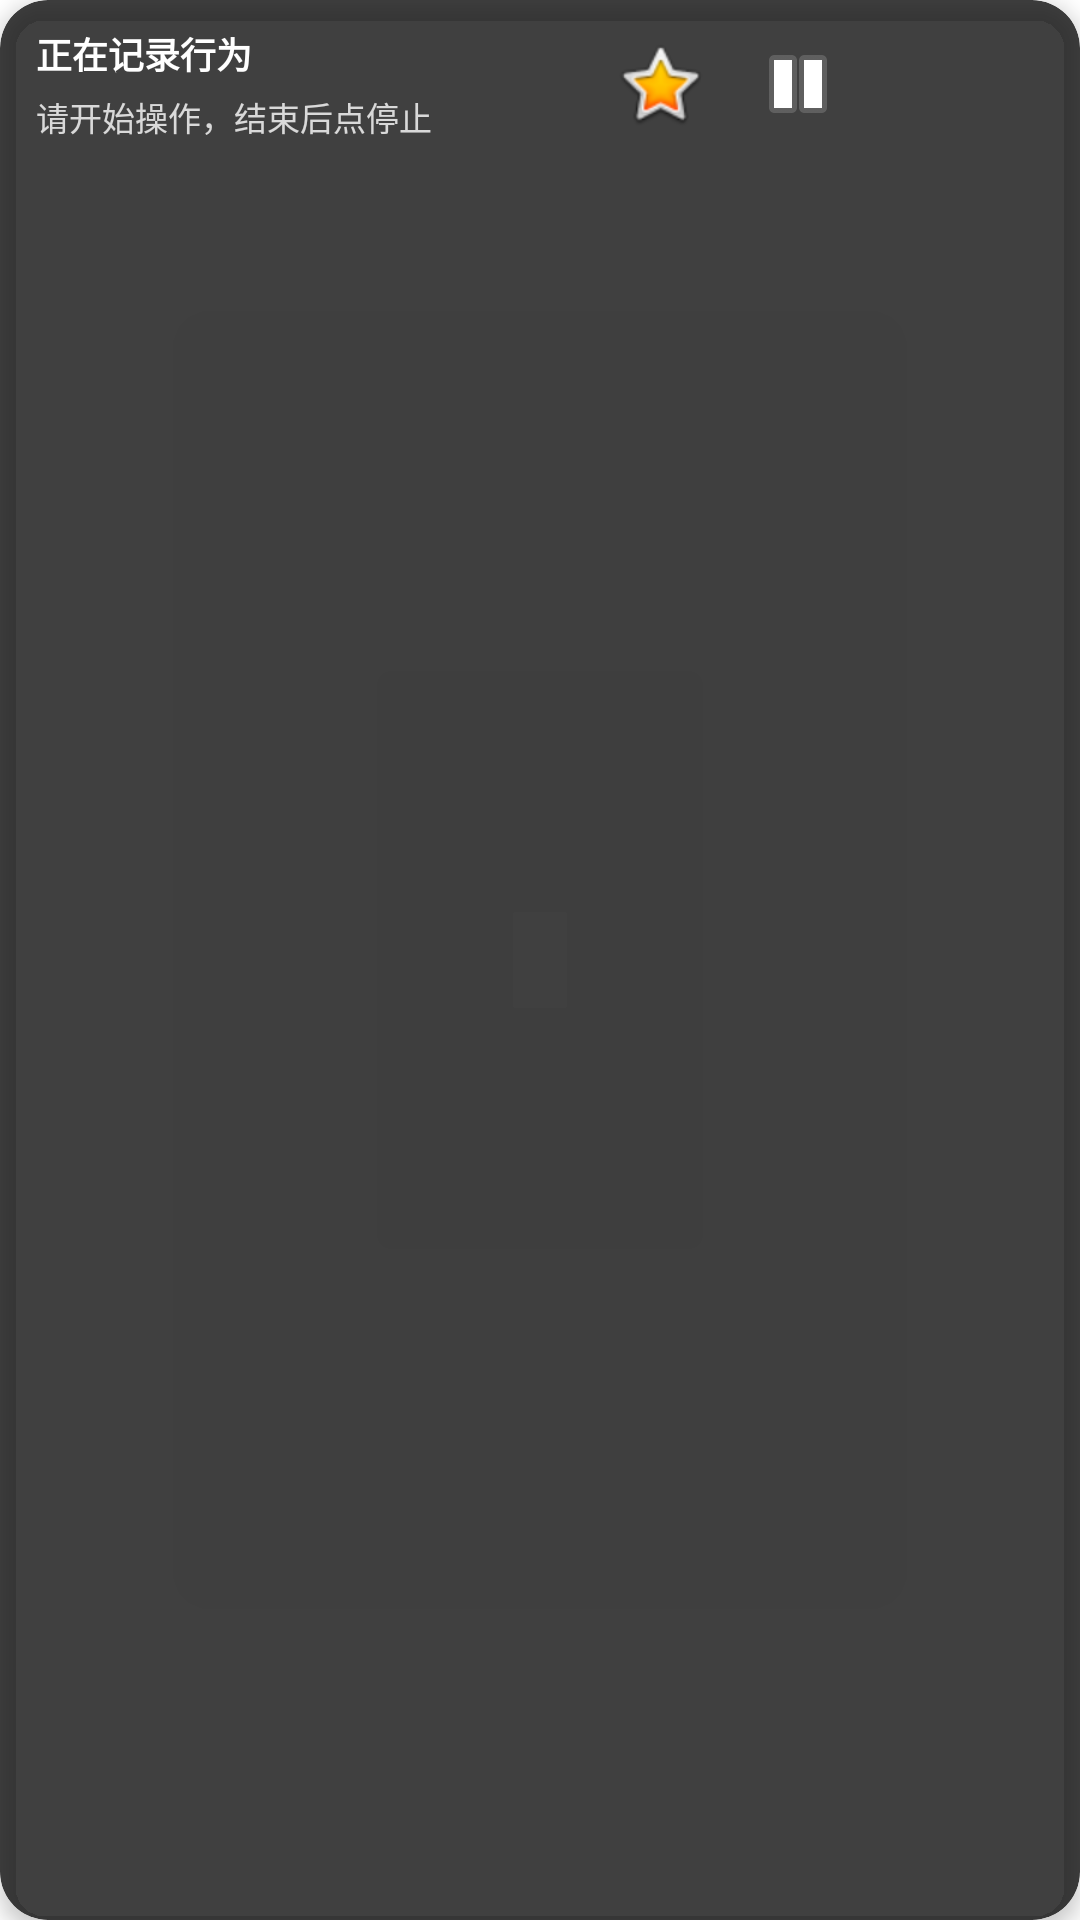

Screen size 1080x1920. Icon name, then its box in pixels as (x1, y1, x2, y2):
收藏当前页面: (623, 47, 699, 120)
